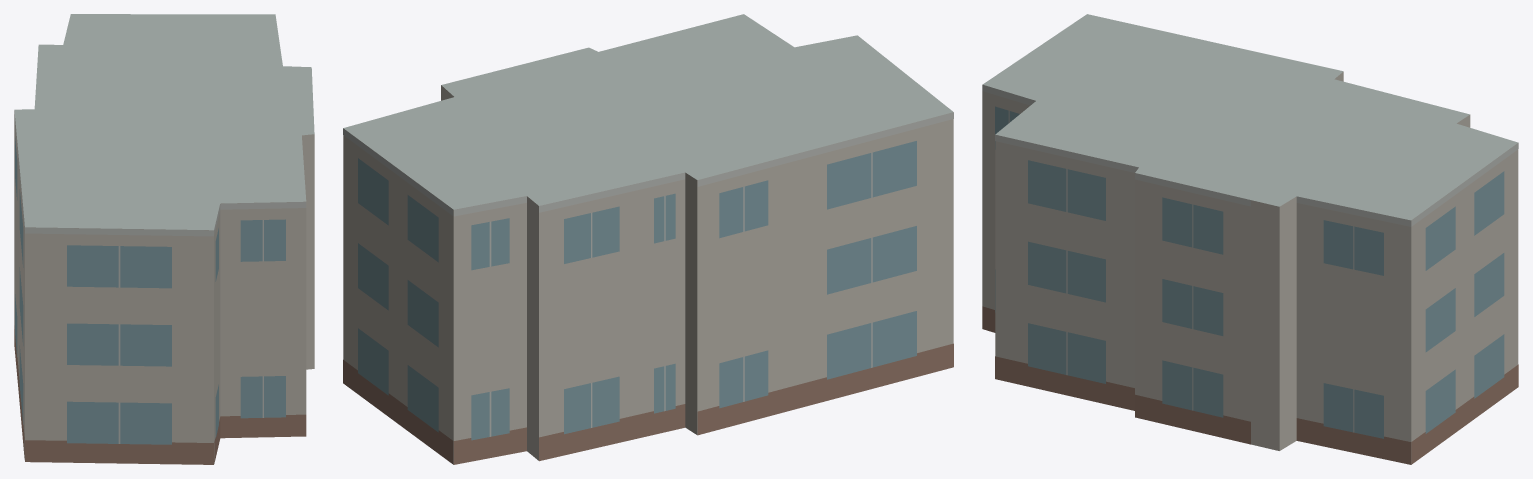
File: survey-upis-32622941.glb
The picture shows the model from 3 angles, left to right: view 1: azimuth 30°, elevation 25°; view 2: azimuth 150°, elevation 25°; view 3: azimuth 270°, elevation 25°; orthographic projection. The views are drawn at different scales.
Visible parts, largest first — view 1: survey-upis-32622941.tmp; view 2: survey-upis-32622941.tmp; view 3: survey-upis-32622941.tmp.
Boxes of the visible parts, x1,y1,x2,y2 form: survey-upis-32622941.tmp: (14, 14, 314, 464); survey-upis-32622941.tmp: (343, 14, 953, 464); survey-upis-32622941.tmp: (982, 14, 1518, 464).
Size of the model in its own units: 16.58 by 9.15 by 18.19.
